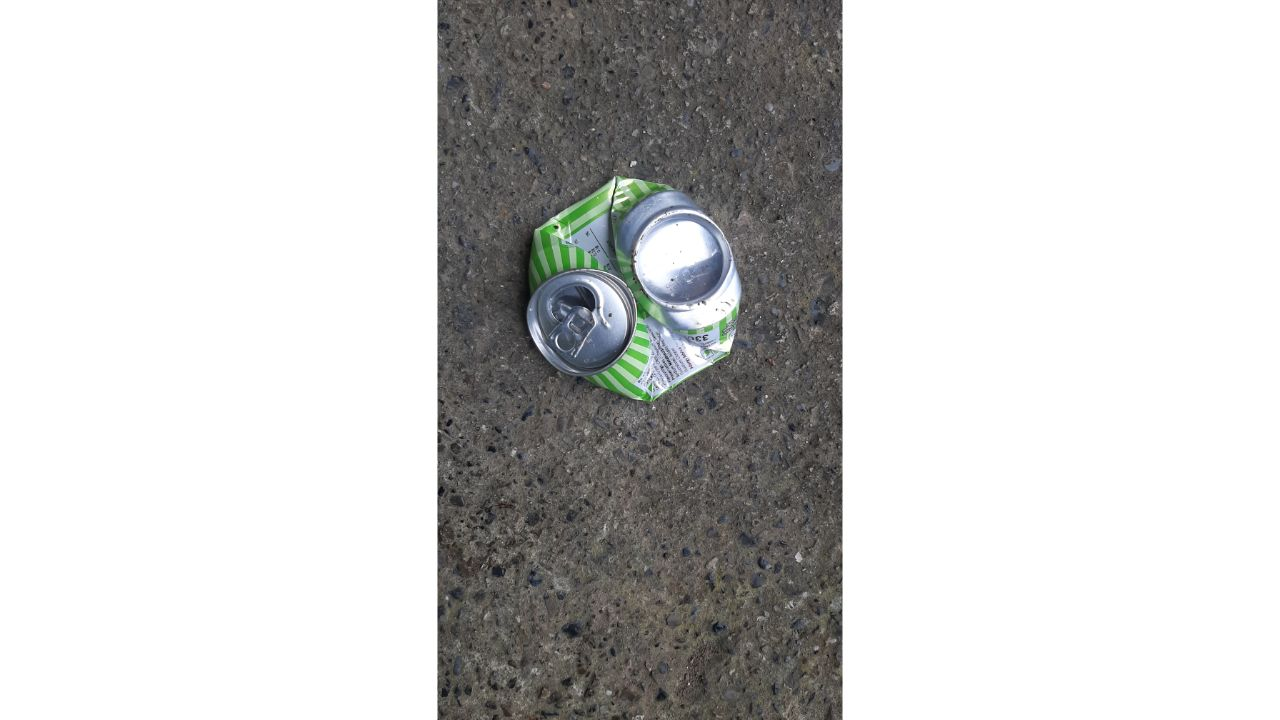Can: (526, 176, 742, 404)
